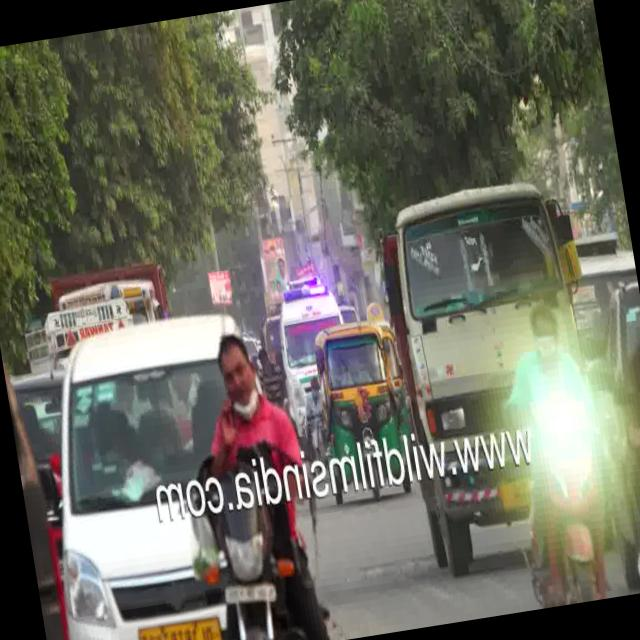ambulance: (264, 258, 344, 339)
